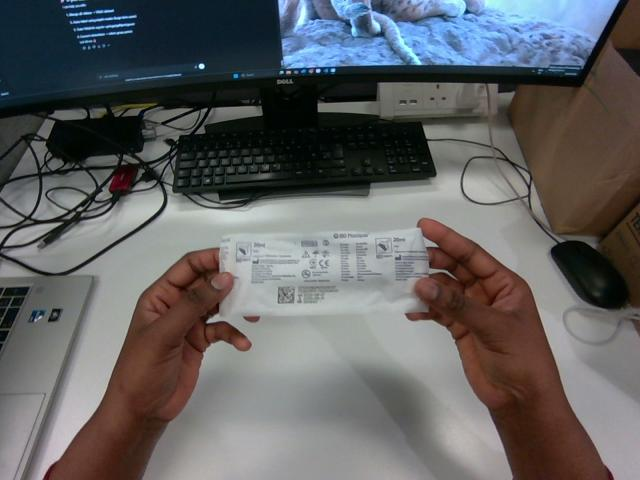syringe: (220, 228, 428, 316)
